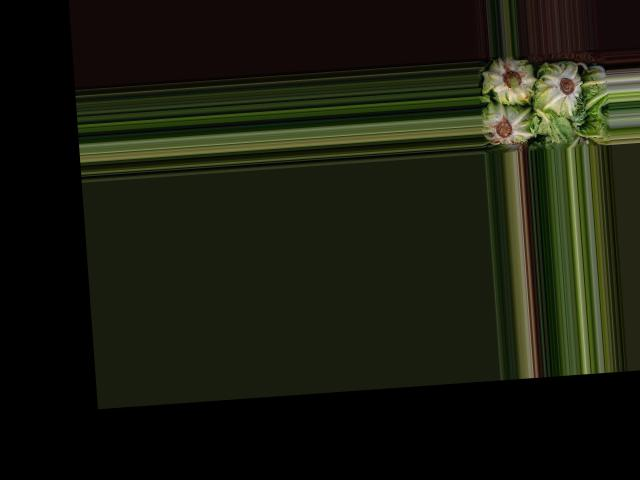lettuce: (480, 100, 534, 147)
